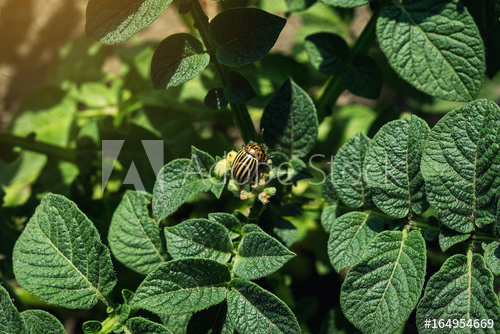hrosc: (228, 136, 268, 194)
